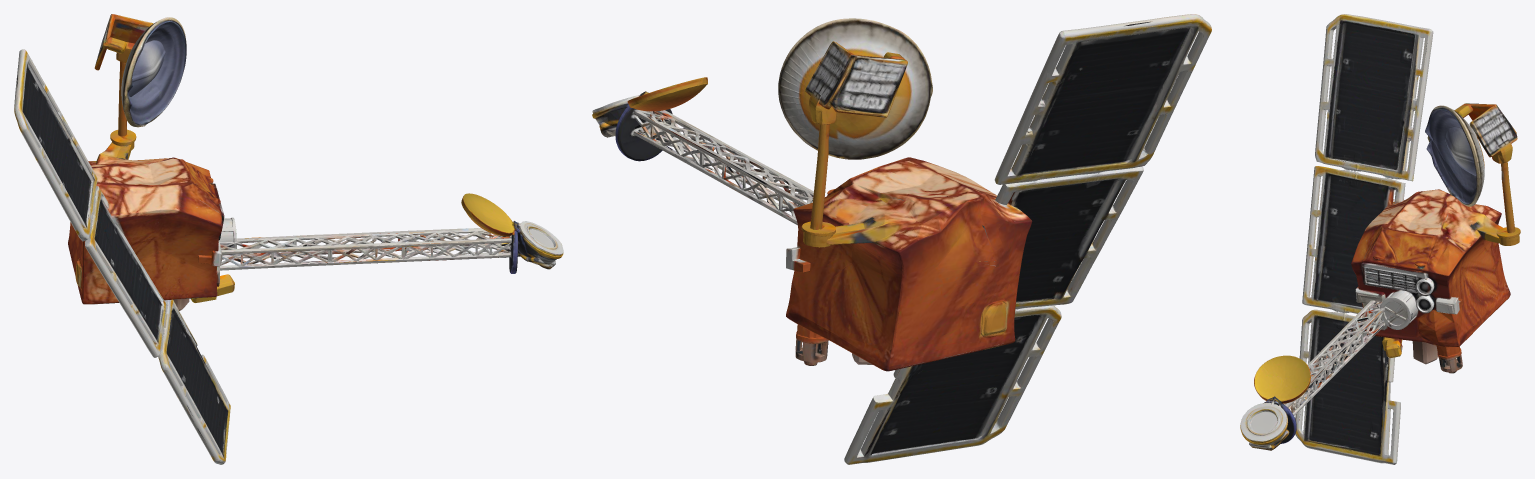
Rendered from marsodyssey.glb.
3 renders of one model, left to right at view 1: azimuth 30°, elevation 25°; view 2: azimuth 150°, elevation 25°; view 3: azimuth 270°, elevation 25°, orthographic. The views are drawn at different scales.
Parts seen in each view (by area): view 1: tripo_node_531fb8cb-da6b-4362-984e-b75c3d87f4de; view 2: tripo_node_531fb8cb-da6b-4362-984e-b75c3d87f4de; view 3: tripo_node_531fb8cb-da6b-4362-984e-b75c3d87f4de.
Boxes of the visible parts, x1,y1,x2,y2 form: tripo_node_531fb8cb-da6b-4362-984e-b75c3d87f4de: (14,14,563,464); tripo_node_531fb8cb-da6b-4362-984e-b75c3d87f4de: (592,14,1211,464); tripo_node_531fb8cb-da6b-4362-984e-b75c3d87f4de: (1240,14,1520,464).
Bounding box in the file's own units: 1 × 0.7525 × 0.5299.
1 material, 1 textured.
